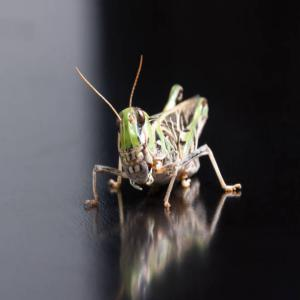locust: (64, 42, 243, 198)
